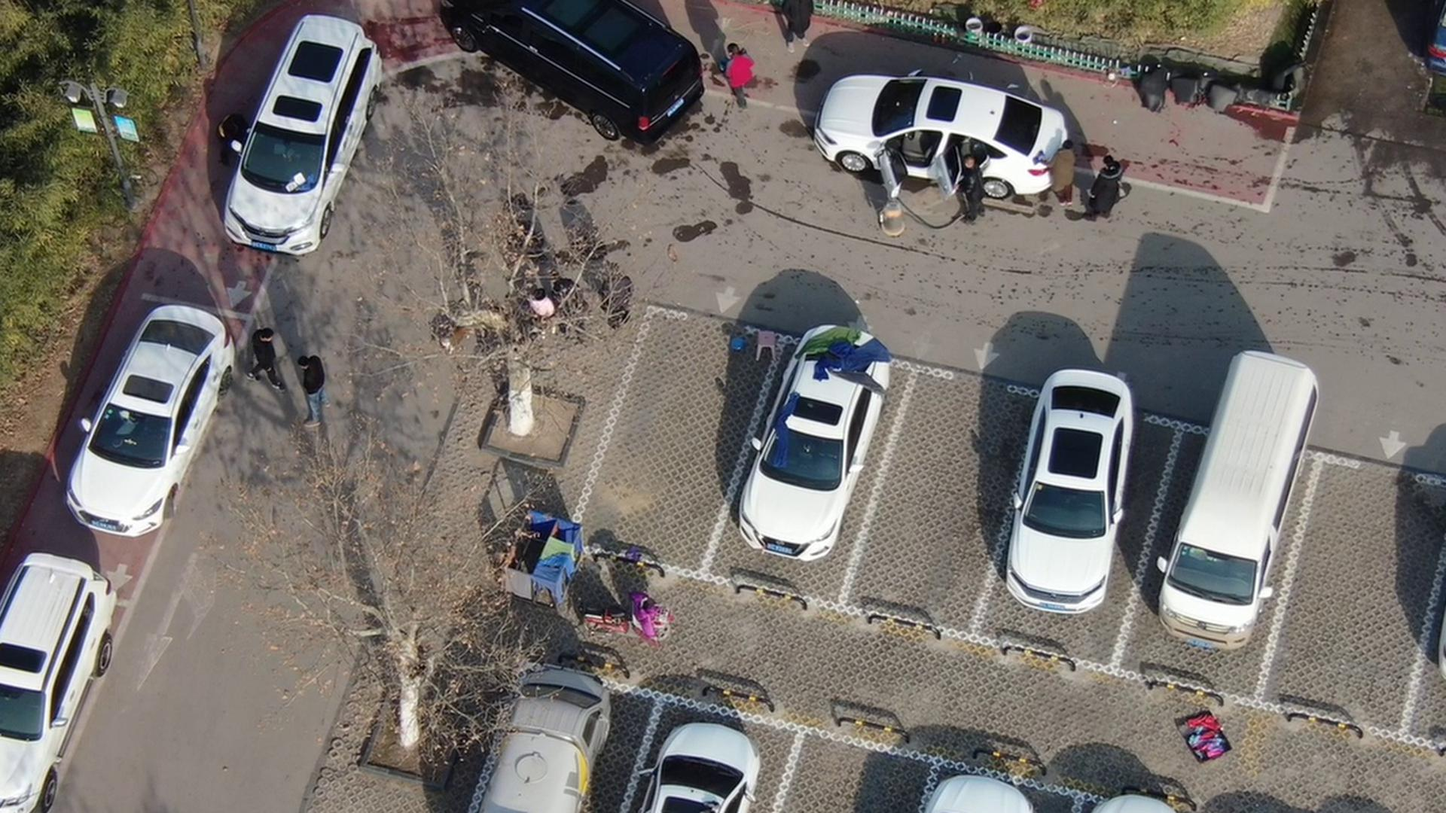human: (554, 266, 596, 343), (1090, 151, 1132, 224), (726, 35, 764, 114), (602, 260, 642, 333), (246, 324, 286, 393), (963, 145, 995, 229), (301, 353, 333, 434), (1054, 137, 1086, 207), (221, 112, 261, 167), (788, 1, 828, 50)
